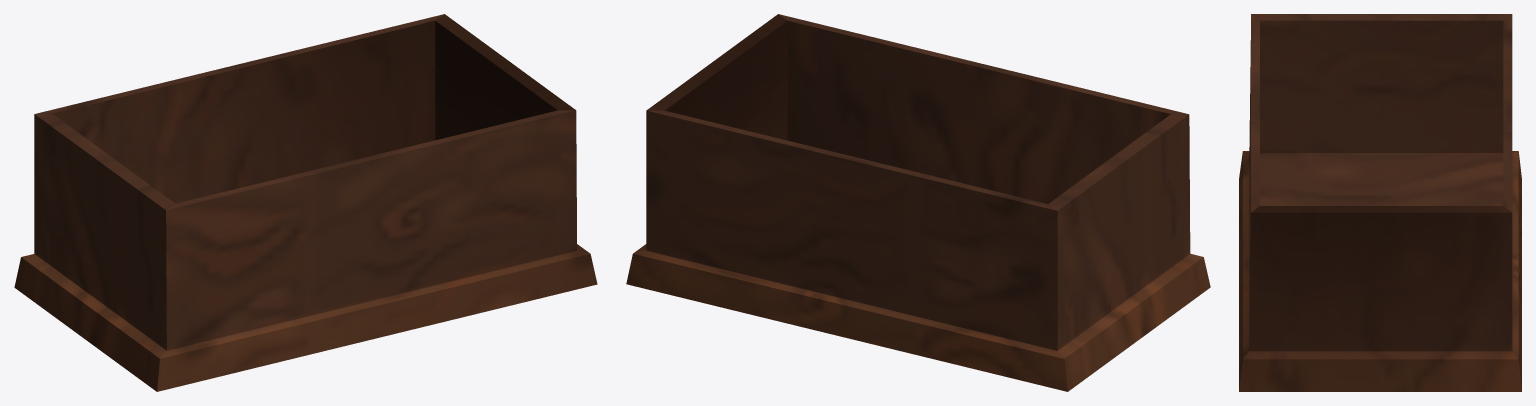
File: Caixa_4.glb
3 renders of one model, left to right at view 1: azimuth 30°, elevation 25°; view 2: azimuth 150°, elevation 25°; view 3: azimuth 270°, elevation 25°, orthographic.
Parts seen in each view (by area): view 1: Caixa.4; view 2: Caixa.4; view 3: Caixa.4.
Part boxes in pixels (x1,y1,x2,y2): Caixa.4: (14,14,597,391); Caixa.4: (626,14,1210,391); Caixa.4: (1239,14,1521,391).
Bounding box in the file's own units: 1.43 × 0.5376 × 0.8011.
Materials: 1 (1 with a texture image).
